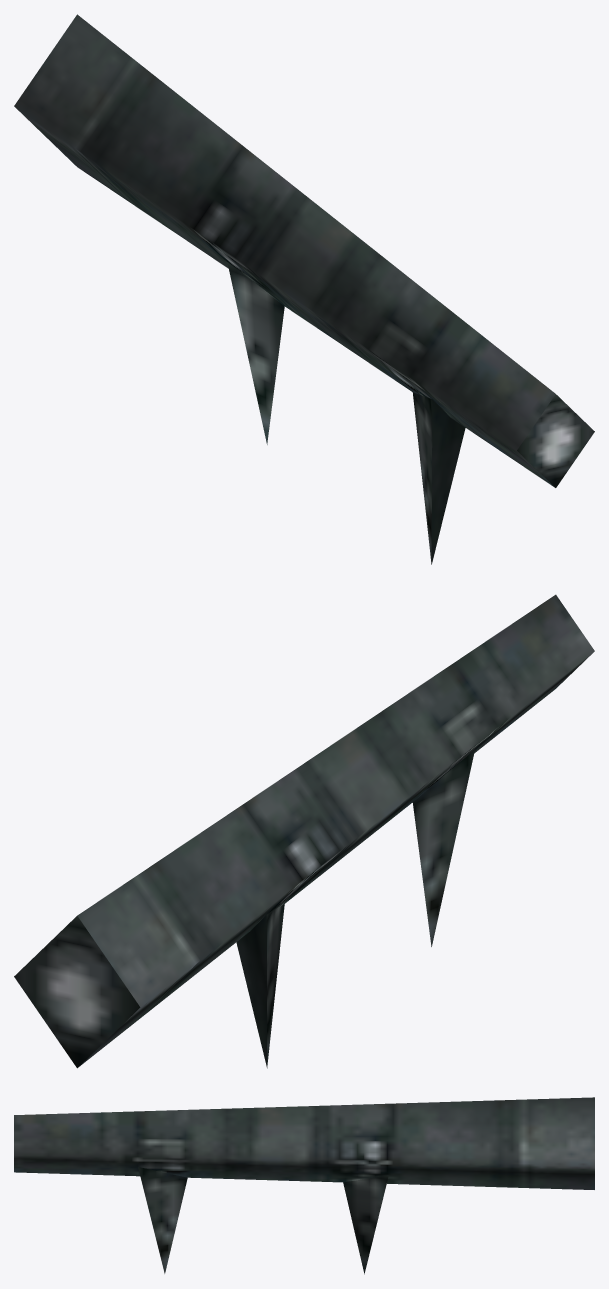
Rendered from wp_scope_sm_s01_l2.fbx.
The picture shows the model from 3 angles, top to bottom: view 1: azimuth 30°, elevation 25°; view 2: azimuth 150°, elevation 25°; view 3: azimuth 270°, elevation 25°; orthographic projection. The views are drawn at different scales.
Parts seen in each view (by area): view 1: mesh_node; view 2: mesh_node; view 3: mesh_node.
Boxes of the visible parts, x1,y1,x2,y2 form: mesh_node: [14, 14, 594, 564]; mesh_node: [14, 594, 594, 1068]; mesh_node: [14, 1097, 594, 1274].
Size of the model in its own units: 0.0338 by 0.0745 by 0.2214.
1 material, 1 textured.
